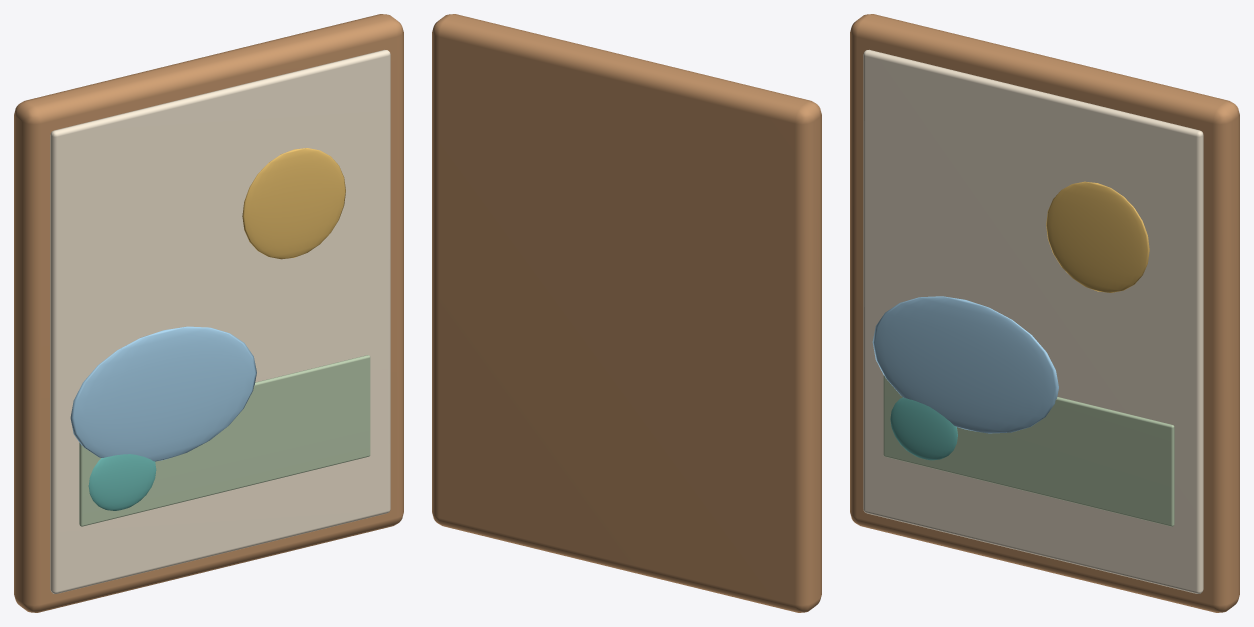
Rendered from poster16.glb.
The picture shows the model from 3 angles, left to right: view 1: azimuth 30°, elevation 25°; view 2: azimuth 150°, elevation 25°; view 3: azimuth 330°, elevation 25°; orthographic projection.
Visible parts, largest first — view 1: Paper, Frame, Landscape, Landscape hill, Illustrated sun, Abstract motif; view 2: Frame; view 3: Paper, Frame, Landscape, Landscape hill, Illustrated sun, Abstract motif.
Boxes of the visible parts, box(x1,y1,x2,y2) form: Paper: box(50, 49, 390, 593); Frame: box(14, 14, 403, 612); Landscape: box(79, 355, 370, 526); Landscape hill: box(70, 326, 256, 461); Illustrated sun: box(242, 148, 345, 259); Abstract motif: box(88, 454, 156, 510); Frame: box(432, 14, 821, 612); Paper: box(863, 49, 1203, 593); Frame: box(850, 14, 1239, 612); Landscape: box(883, 375, 1174, 526); Landscape hill: box(872, 296, 1058, 433); Illustrated sun: box(1046, 181, 1149, 292); Abstract motif: box(890, 397, 957, 460).
Bounding box in the file's own units: 1.1 × 1.4 × 0.15.
